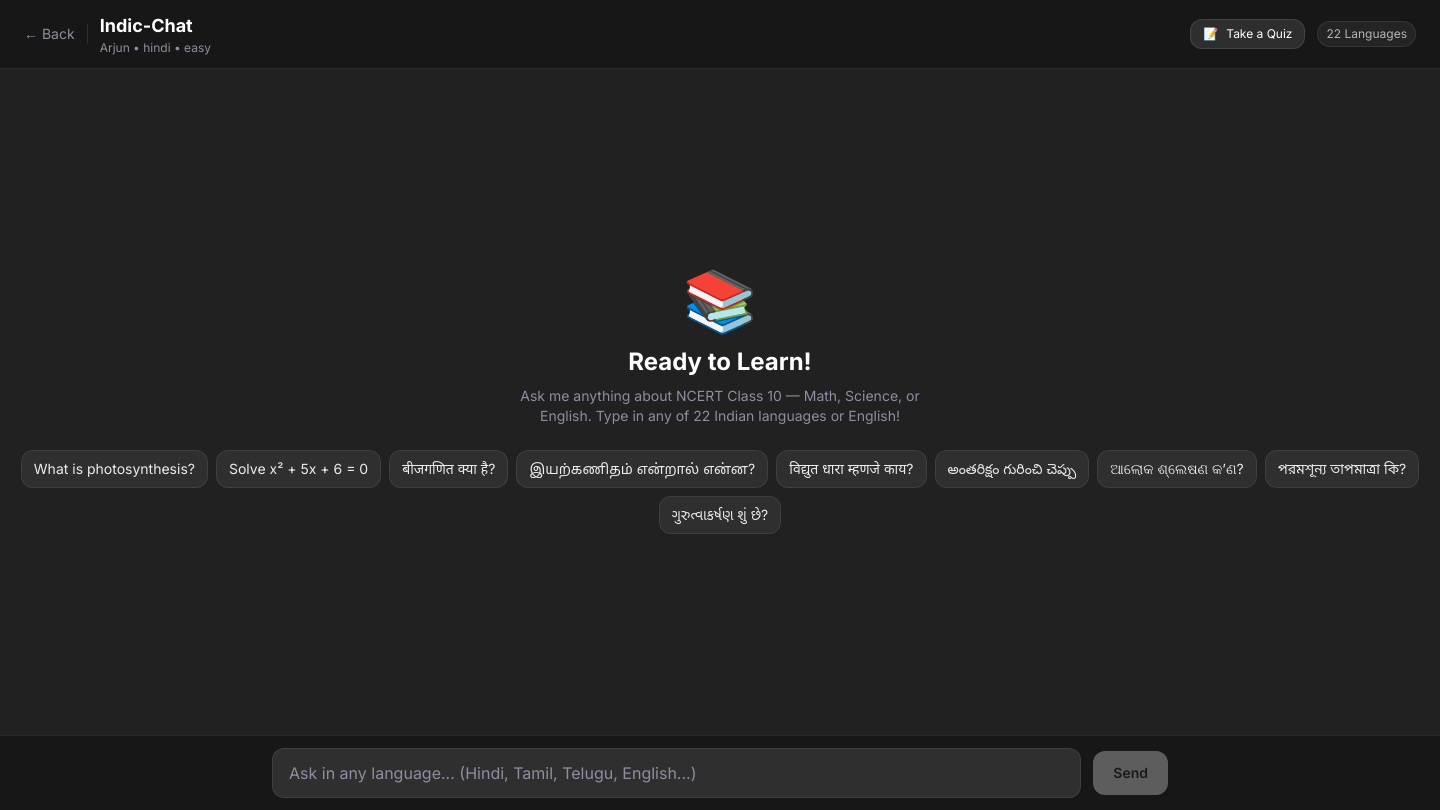
Test: ChatPage › handles metadata events during streaming
The width and height of the screenshot is (1440, 810).
Step 1. Type "Hello" into the field with placeholder "Ask in any language... (Hindi, Tamil, Telugu, English...)" → [677, 773], box [272,748,1081,798]
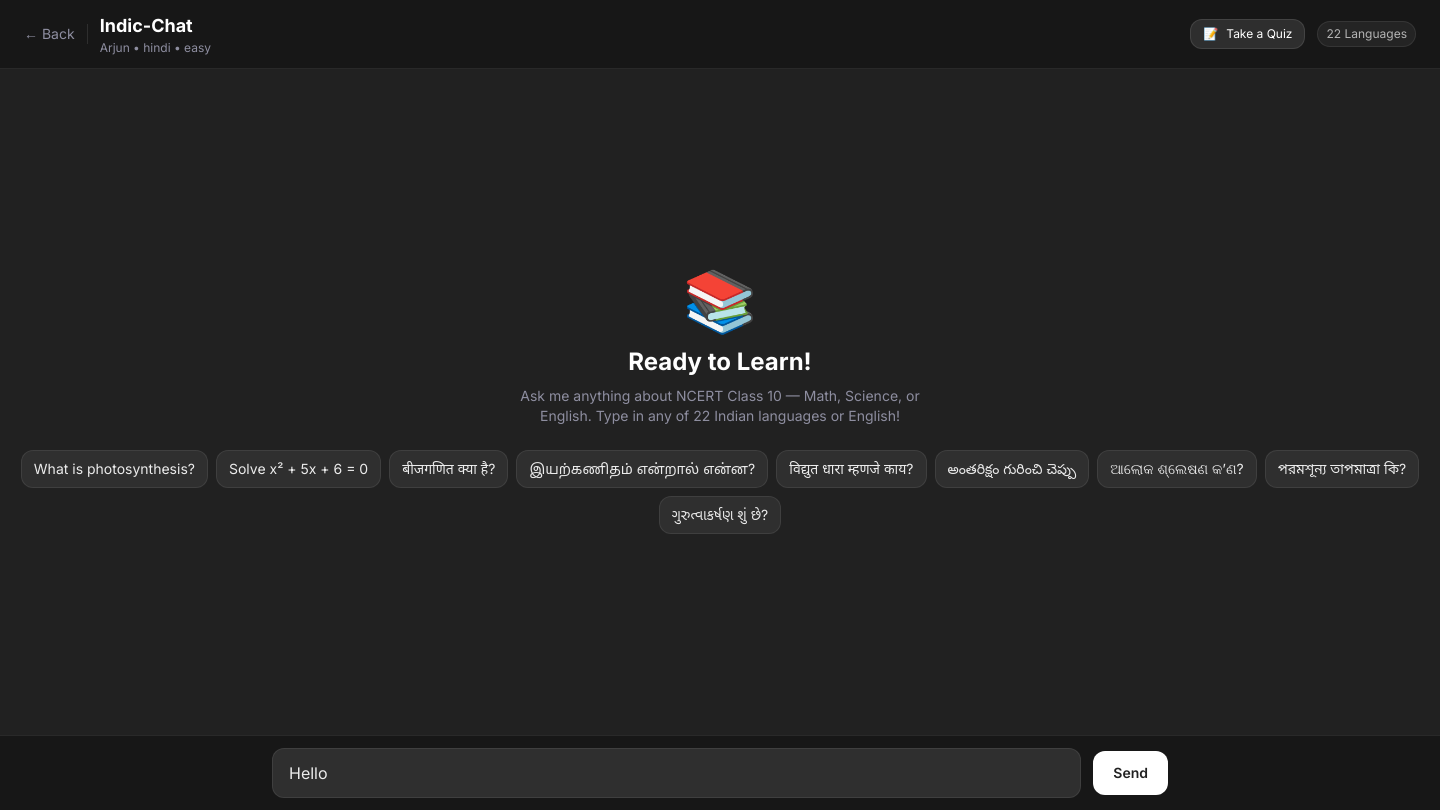
Step 2. Submit the form with placeholder "Ask in any language", box [272,748,1168,798]
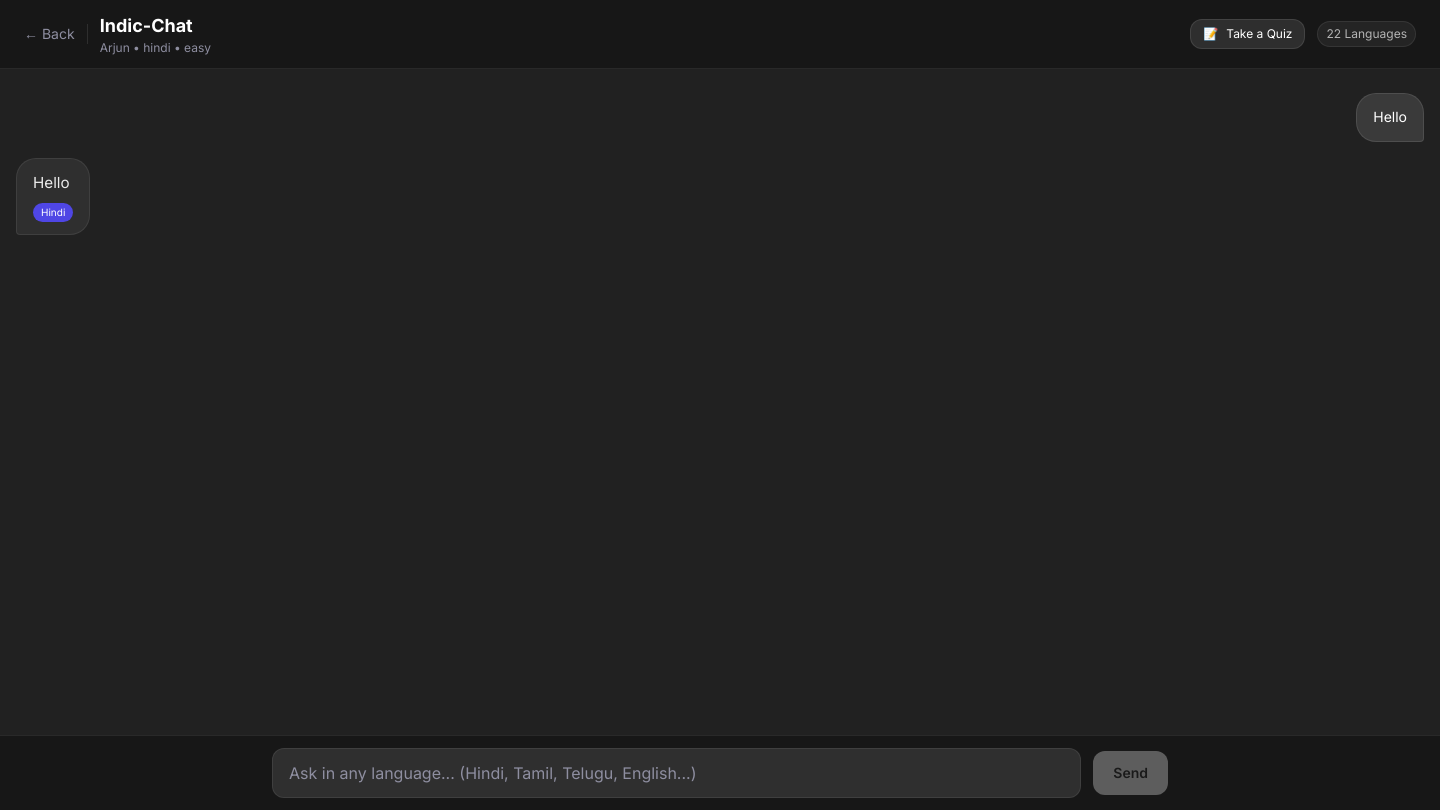
Result: the 1st text "Hello" is shown at [1373,106,1407,129]
